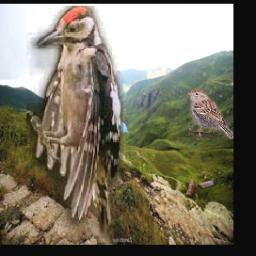Sparrow: (188, 88, 233, 139)
Woodpecker: (25, 7, 122, 245)
